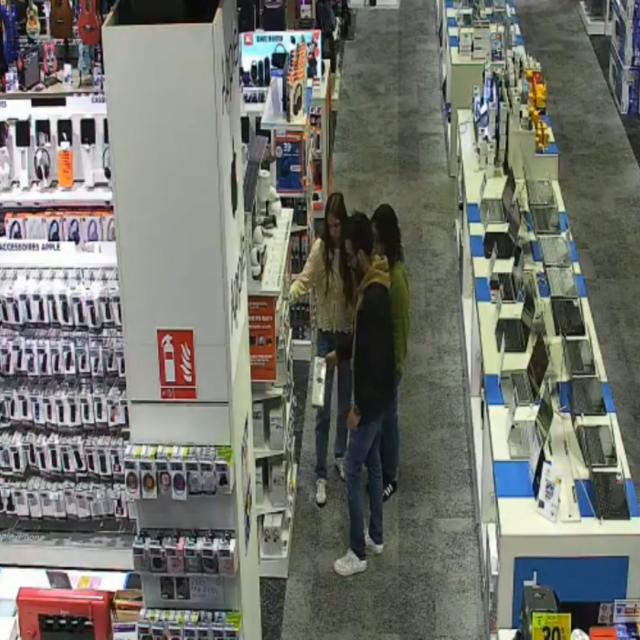article: (311, 356, 326, 408)
hands: (348, 409, 360, 430), (326, 351, 338, 369)
person: (327, 213, 395, 575), (372, 204, 409, 501), (291, 193, 354, 357)
